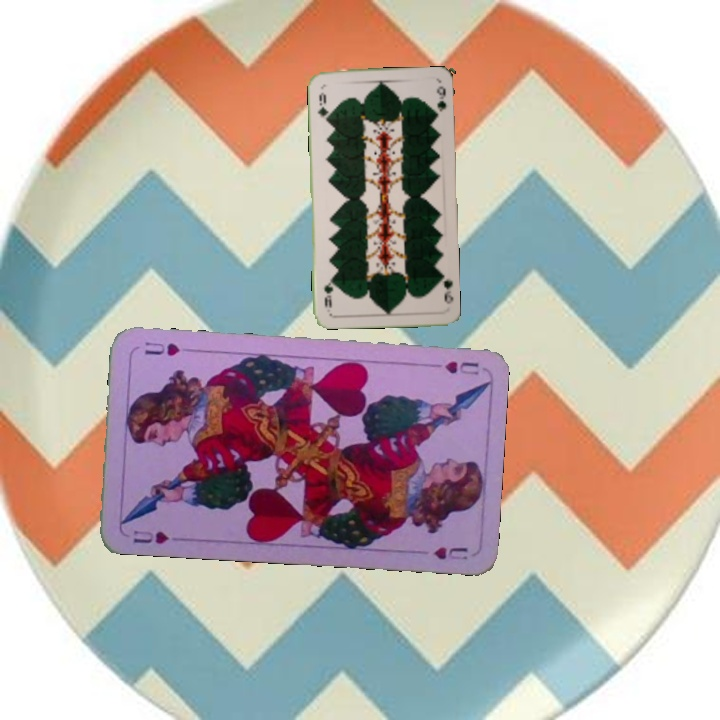G9: (435, 270, 456, 306), (313, 88, 331, 124)
HU: (424, 357, 482, 378), (129, 526, 172, 547)
